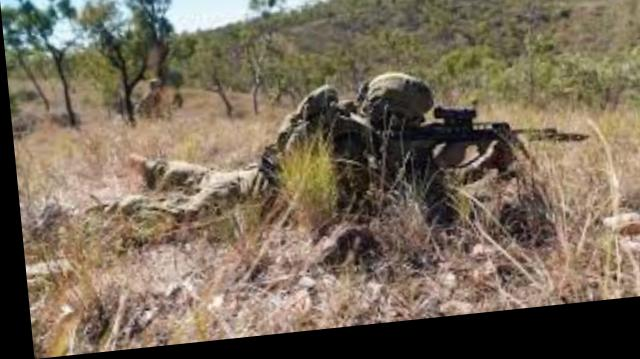other: (136, 72, 463, 236)
